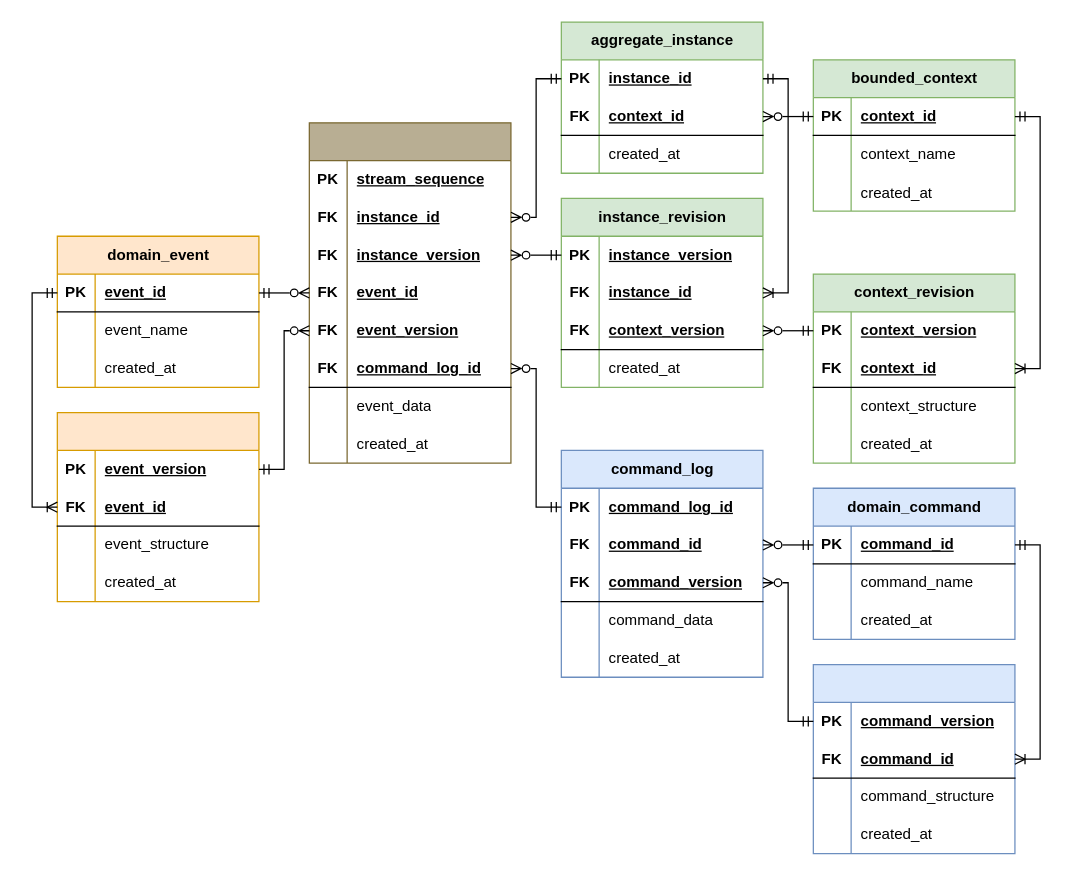
Some shapes in this 1074 by 876 pixel diagram are drawn without their labels. The box of each missing label's shape, as (x1, y1, x2, y2) in pixels:
command_revision: (812, 663, 1015, 854)
event_revision: (56, 411, 259, 602)
event_stream: (308, 122, 511, 463)
